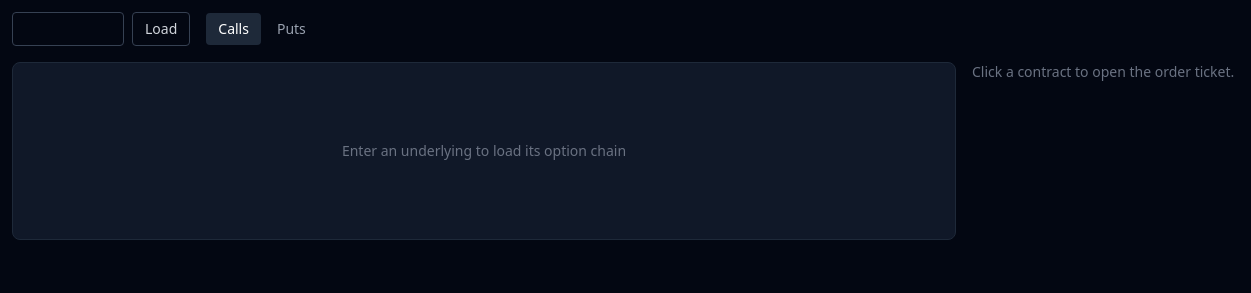
shows the backend message when an underlying has no options
The width and height of the screenshot is (1251, 293).
Type "ZZZZ" into the field named "underlying" at (68, 29), box [12, 12, 124, 46]
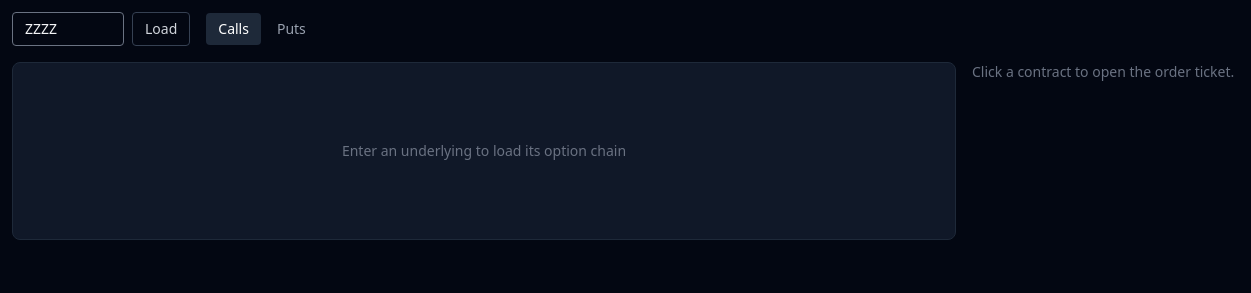
Click the button "Load" at (161, 29), box [132, 12, 190, 46]
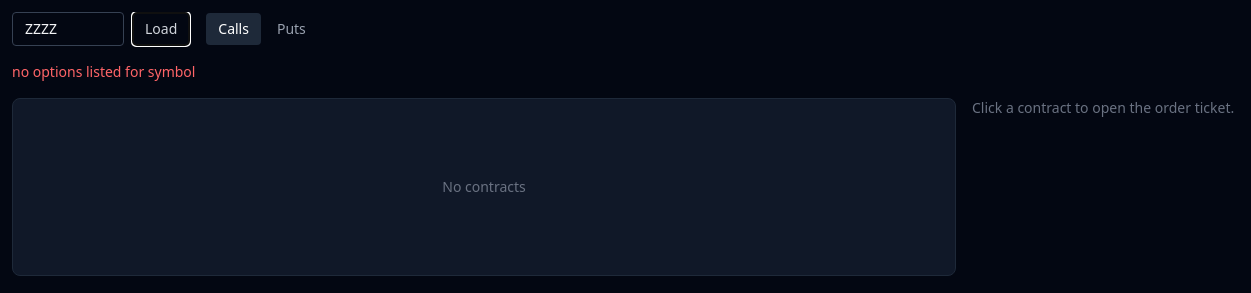
Now the text "no options listed for symbol" is shown, box [12, 62, 196, 81]
